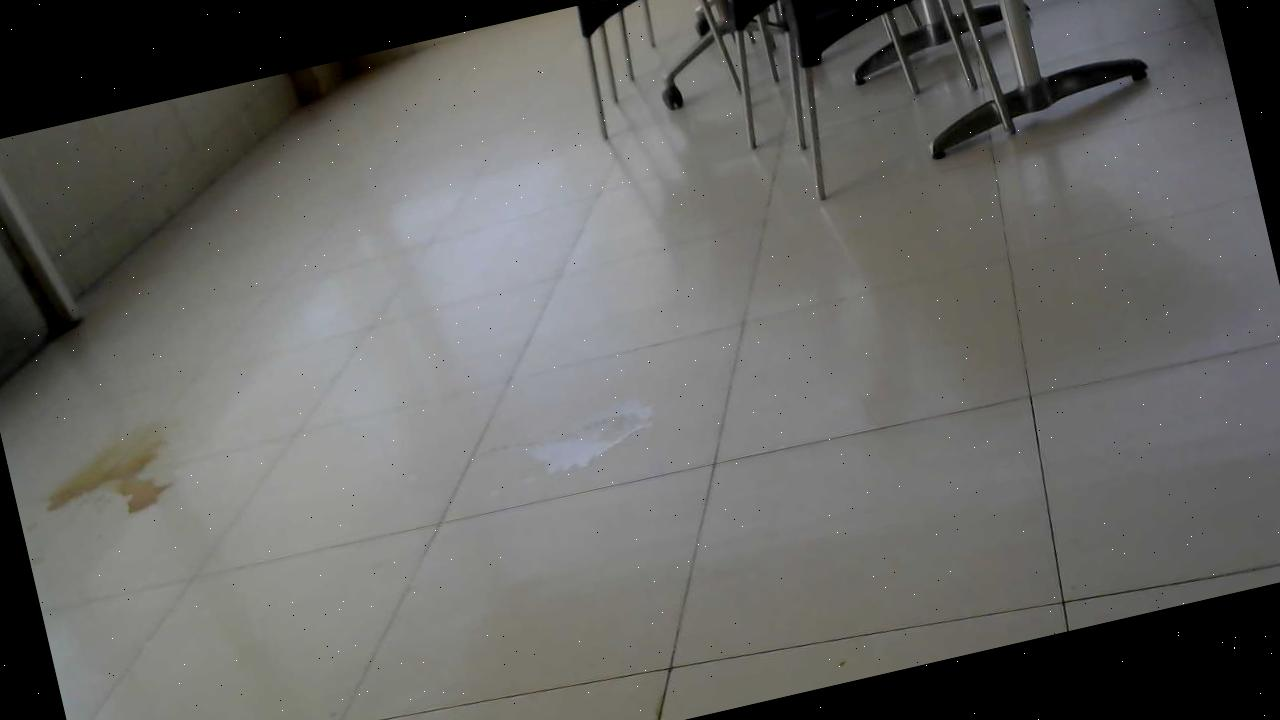dirty_floor: (27, 414, 188, 538), (518, 390, 666, 484)
